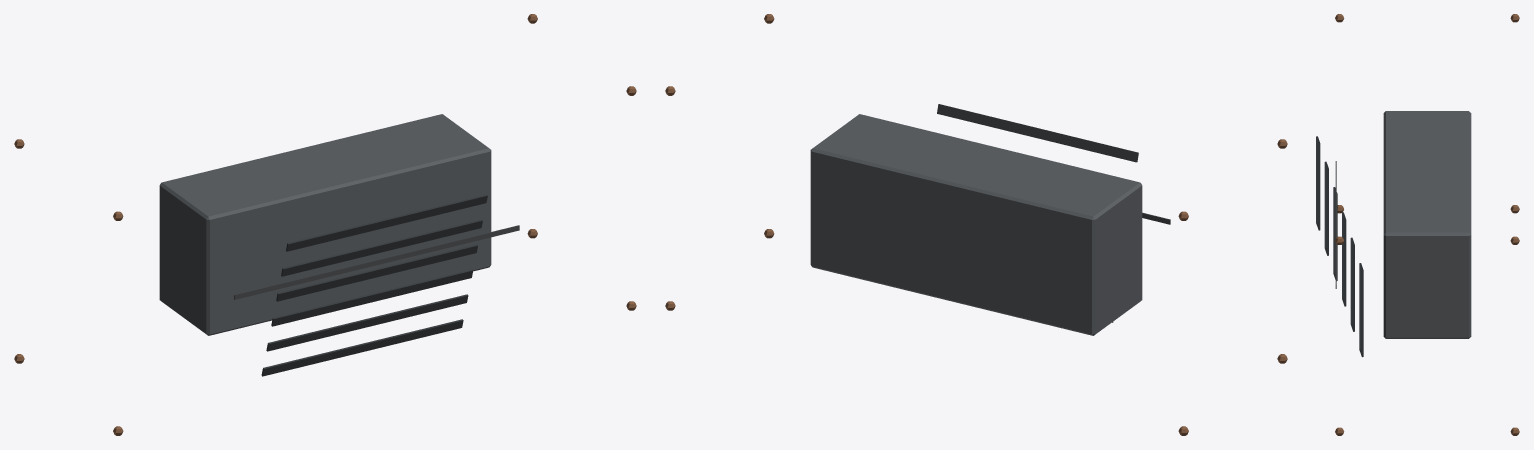
File: arch_vent_duct.glb
3 views of the same model, side by side, from view 1: azimuth 30°, elevation 25°; view 2: azimuth 150°, elevation 25°; view 3: azimuth 270°, elevation 25° (orthographic). The views are drawn at different scales.
Visible parts, largest first — view 1: arch_vent_duct; view 2: arch_vent_duct; view 3: arch_vent_duct.
Part boxes in pixels (x1,y1,x2,y2): arch_vent_duct: [14, 14, 636, 435]; arch_vent_duct: [665, 14, 1287, 435]; arch_vent_duct: [1316, 14, 1519, 435].
Bounding box in the file's own units: 0.9139 × 0.376 × 0.3481.
